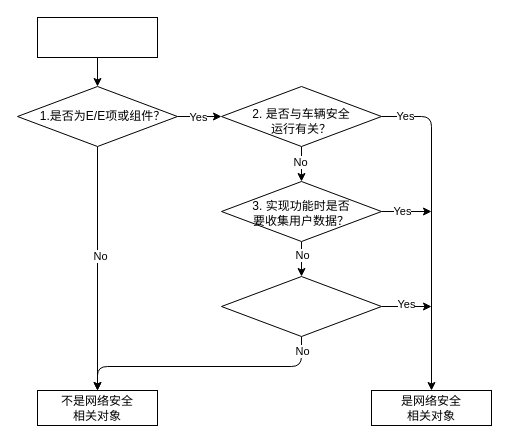
Some shapes in this 509 by 443 pixel diagram are drawn without their labels. The centre of each missing label's shape, as x and y in pixels:
"4. 实现功能时是否给予网络组件？" goes at point (301, 306).
"待分析的候选对象" goes at point (97, 37).
